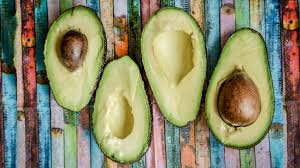aguacate: (44, 9, 113, 118)
